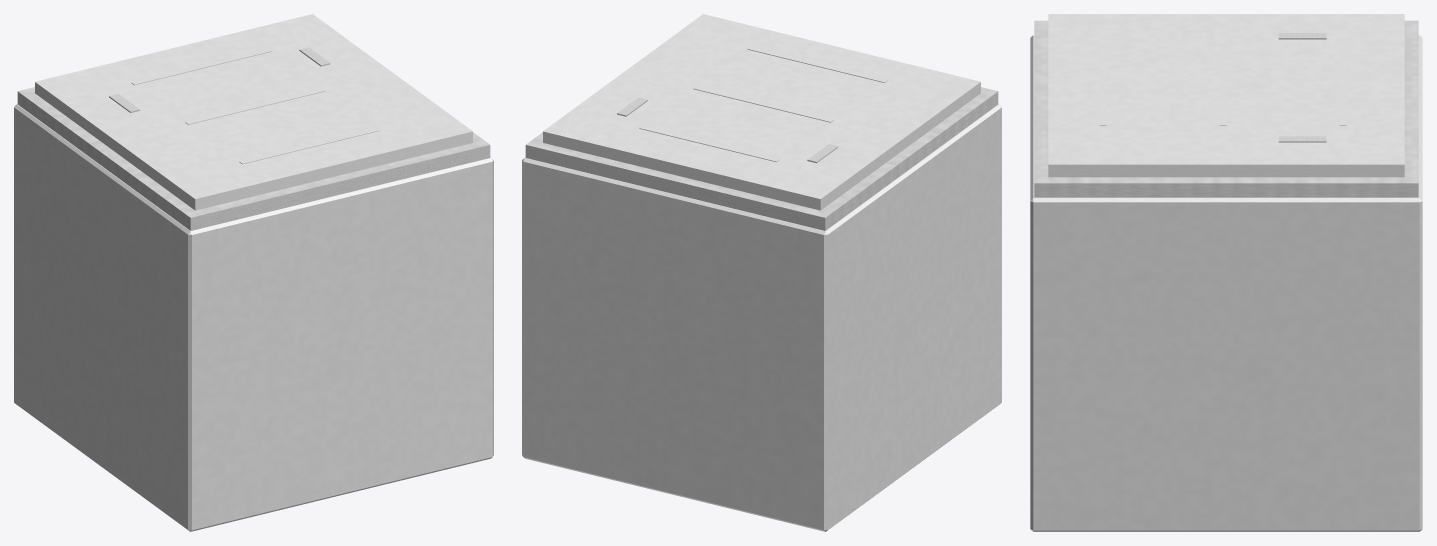
Rendered from undergroundservicehandhole.obj.
3 views of the same model, side by side, from view 1: azimuth 30°, elevation 25°; view 2: azimuth 150°, elevation 25°; view 3: azimuth 270°, elevation 25° (orthographic). The views are drawn at different scales.
Visible parts, largest first — view 1: Case, Lid, Trim, Lettering; view 2: Case, Lid, Trim, Lettering; view 3: Case, Lid, Trim, Lettering.
Boxes of the visible parts, x1,y1,x2,y2 form: Case: [14, 104, 493, 531]; Lid: [35, 14, 472, 210]; Trim: [17, 47, 490, 230]; Lettering: [131, 49, 379, 164]; Case: [522, 104, 1001, 531]; Lid: [543, 14, 980, 210]; Trim: [525, 87, 998, 230]; Lettering: [639, 46, 887, 162]; Case: [1030, 35, 1422, 531]; Lid: [1048, 14, 1404, 177]; Trim: [1034, 20, 1418, 197]; Lettering: [1099, 50, 1346, 125].
Bounding box in the file's own units: 0.98 × 1 × 0.98.
